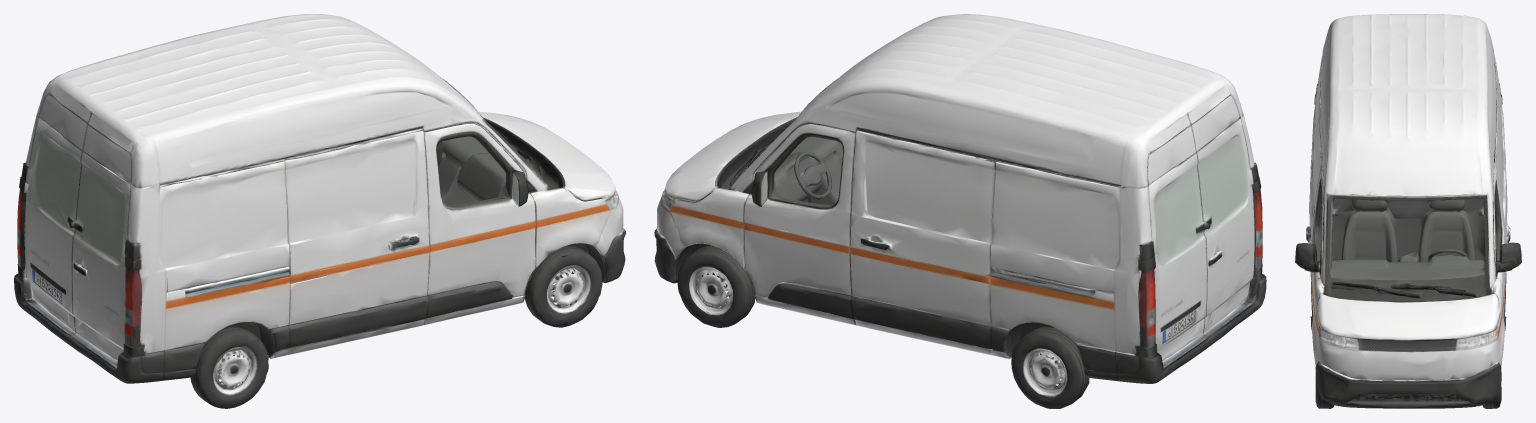
File: car_van.glb
3 renders of one model, left to right at view 1: azimuth 30°, elevation 25°; view 2: azimuth 150°, elevation 25°; view 3: azimuth 270°, elevation 25°, orthographic. The views are drawn at different scales.
Parts seen in each view (by area): view 1: tripo_node_86280189-e760-4b95-80d5-eaaac42bccaa; view 2: tripo_node_86280189-e760-4b95-80d5-eaaac42bccaa; view 3: tripo_node_86280189-e760-4b95-80d5-eaaac42bccaa.
Part boxes in pixels (<box>): tripo_node_86280189-e760-4b95-80d5-eaaac42bccaa: <box>14,14,625,408</box>; tripo_node_86280189-e760-4b95-80d5-eaaac42bccaa: <box>654,14,1266,408</box>; tripo_node_86280189-e760-4b95-80d5-eaaac42bccaa: <box>1295,14,1521,408</box>.
Size of the model in its own units: 0.982 by 0.5146 by 0.4542.
1 material, 1 textured.
